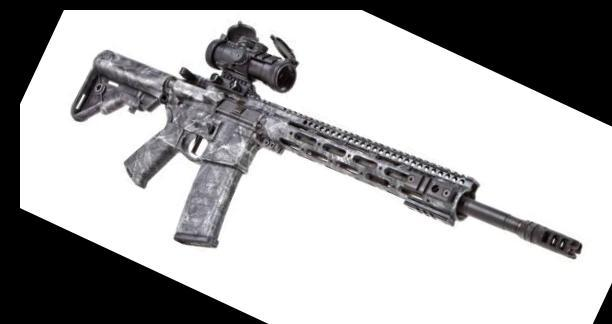larga: (70, 21, 584, 260)
